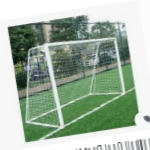goals: (25, 37, 125, 128)
